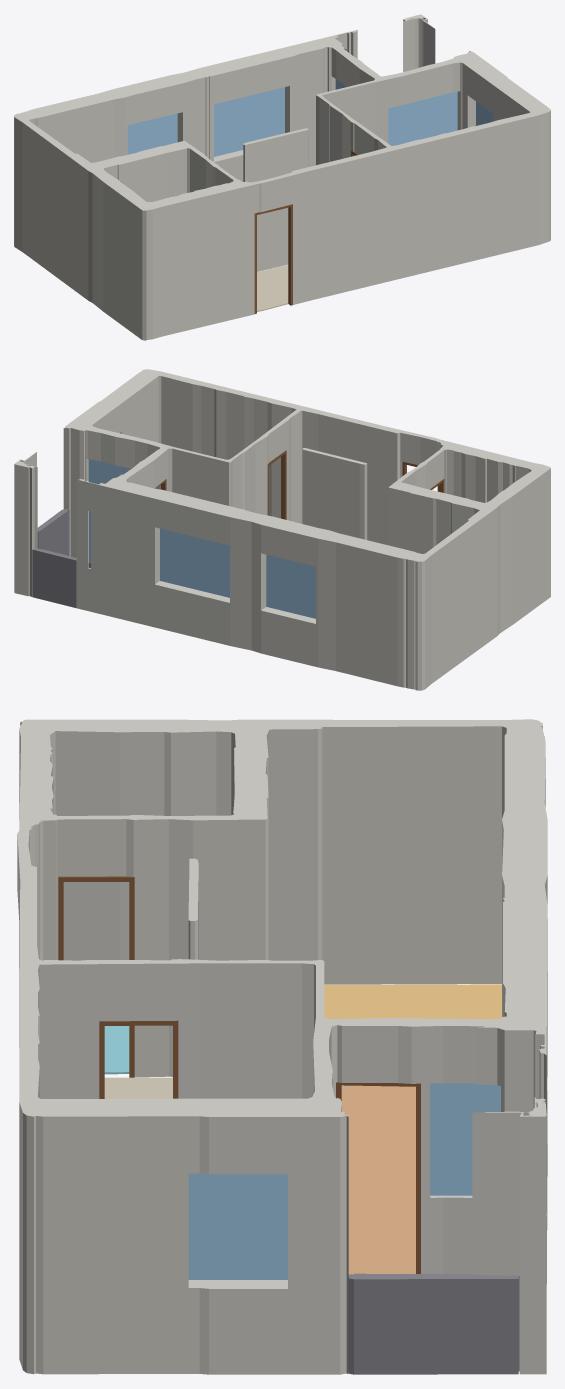
3 views of the same model, one above another, from view 1: azimuth 30°, elevation 25°; view 2: azimuth 150°, elevation 25°; view 3: azimuth 270°, elevation 25° (orthographic). The views are drawn at different scales.
Visible parts, largest first — view 1: walls, window_5, window_9, window_4, floor_5_Entry, door_3; view 2: walls, window_5, railings, window_4, window_9, door_1; view 3: walls, railings, floor_2_Living_Room, window_10, floor_1_Kitchen, window_8, door_2, floor_5_Entry, door_0, door_1, floor_4_Bath.
Part boxes in pixels (x1,y1,x2,y2): walls: [14, 14, 550, 340]; window_5: [214, 87, 284, 156]; window_9: [388, 91, 457, 145]; window_4: [127, 113, 177, 154]; floor_5_Entry: [257, 265, 288, 311]; door_3: [254, 204, 292, 313]; walls: [14, 369, 550, 690]; window_5: [160, 528, 229, 597]; railings: [32, 509, 90, 608]; window_4: [266, 554, 315, 618]; window_9: [88, 459, 158, 488]; door_1: [267, 450, 286, 519]; walls: [17, 719, 547, 1374]; railings: [348, 1273, 519, 1374]; floor_2_Living_Room: [341, 1085, 415, 1274]; window_10: [188, 1173, 287, 1279]; floor_1_Kitchen: [324, 984, 501, 1019]; window_8: [430, 1083, 500, 1195]; door_2: [58, 876, 134, 1077]; floor_5_Entry: [104, 1077, 172, 1098]; door_0: [336, 1082, 420, 1273]; door_1: [99, 1020, 178, 1098]; floor_4_Bath: [104, 1026, 129, 1074].
Bounding box in the file's own units: 8.94 × 2.72 × 5.04.
